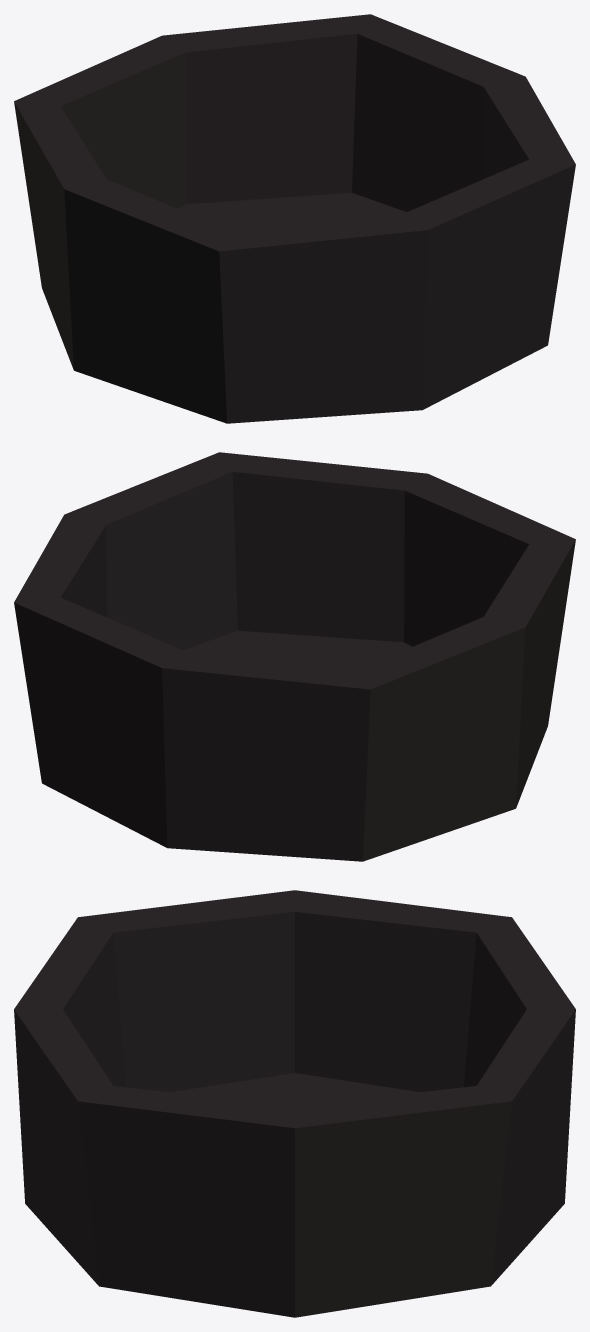
Rendered from potCastIron.fbx.
3 views of the same model, one above another, from view 1: azimuth 30°, elevation 25°; view 2: azimuth 150°, elevation 25°; view 3: azimuth 270°, elevation 25° (orthographic). The views are drawn at different scales.
Parts seen in each view (by area): view 1: potCastIron; view 2: potCastIron; view 3: potCastIron.
Boxes of the visible parts, x1,y1,x2,y2 form: potCastIron: (14,14,575,423); potCastIron: (14,452,575,861); potCastIron: (14,890,575,1317).
Size of the model in its own units: 30.57 by 11.64 by 30.5.
1 material, 1 textured.
